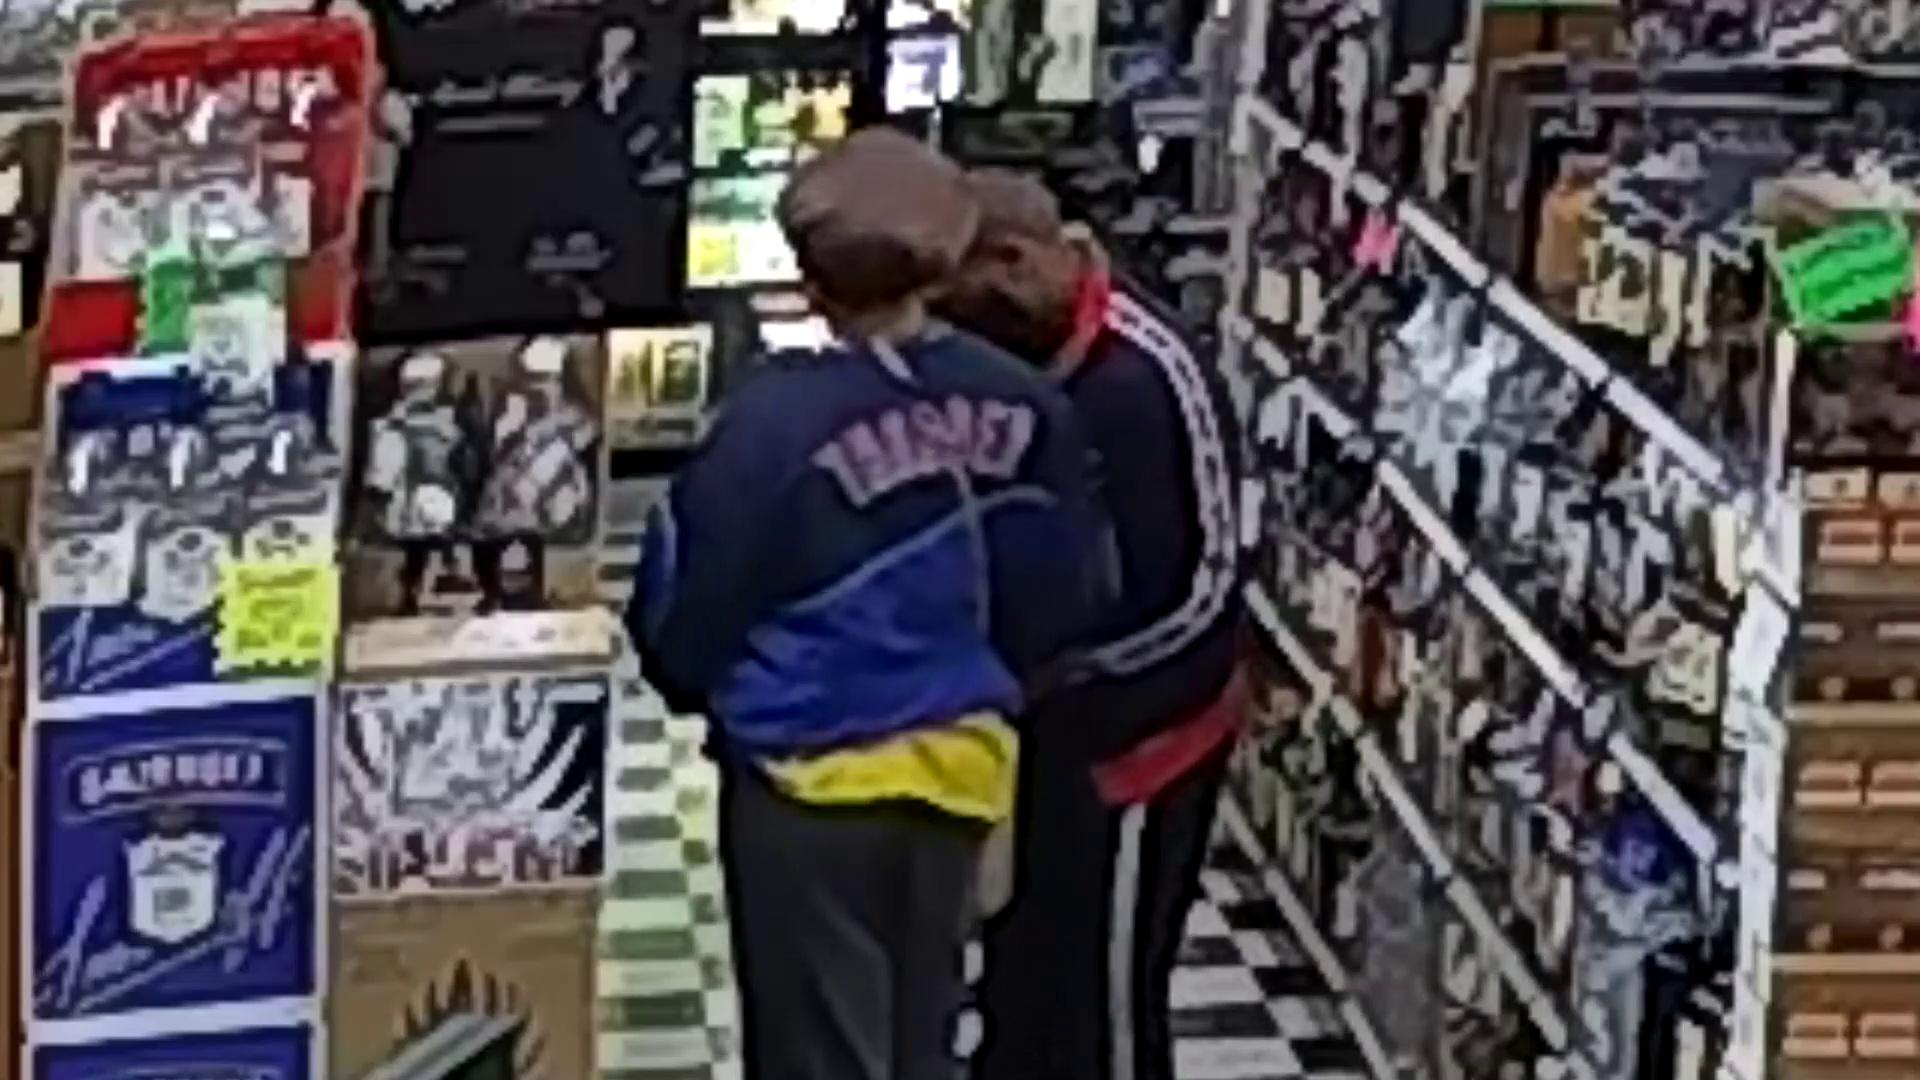Regular: (578, 133, 1147, 1080), (1015, 173, 1216, 1080)
